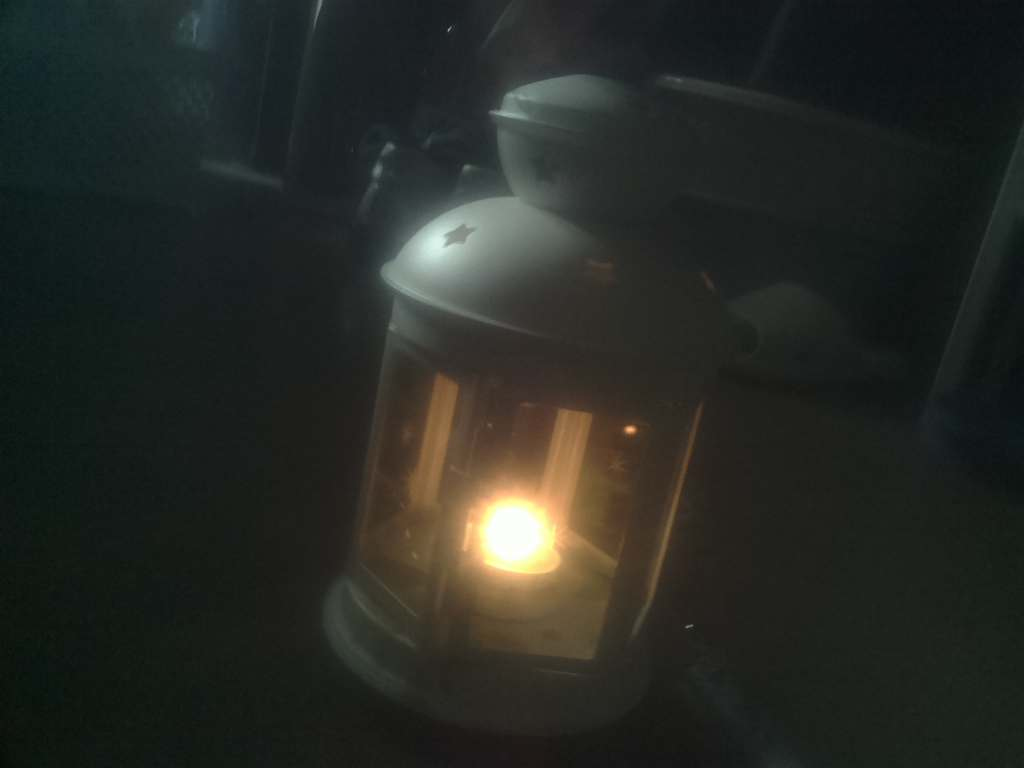fire: (463, 491, 568, 591)
